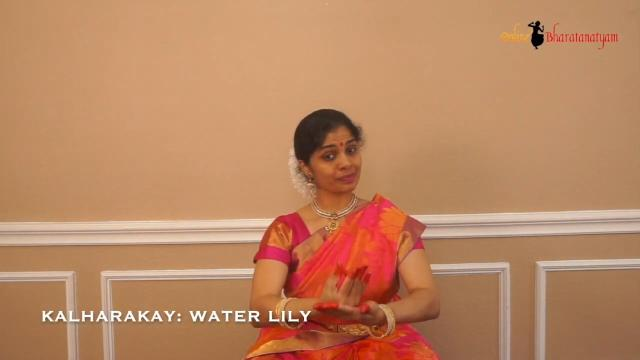kangul: (326, 252, 372, 308)
